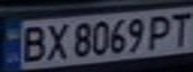0: (90, 17, 112, 56)
6: (109, 16, 130, 55)
8: (69, 19, 93, 58)
9: (124, 15, 151, 53)
B: (15, 22, 48, 63)
P: (145, 11, 175, 51)
T: (166, 9, 193, 47)
X: (42, 20, 69, 62)
